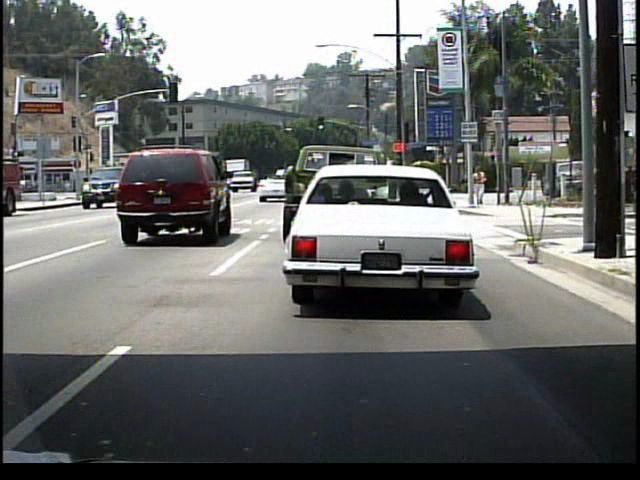person: (474, 167, 489, 208)
